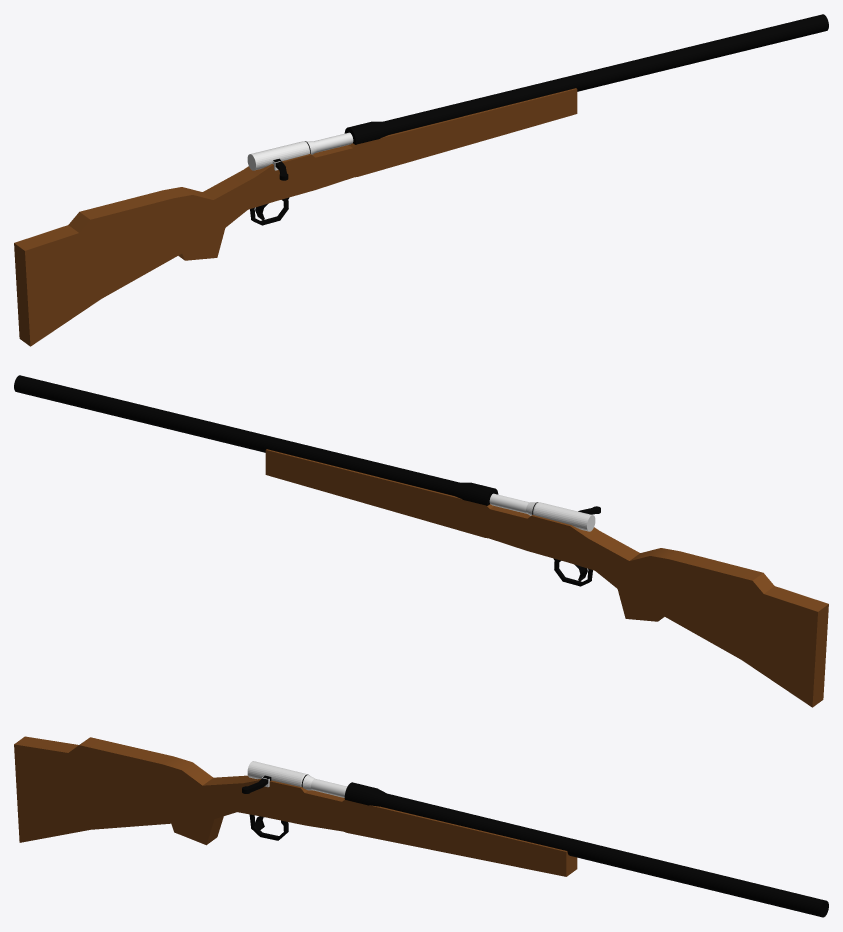
The model's file is remington700.fbx.
3 views of the same model, one above another, from view 1: azimuth 30°, elevation 25°; view 2: azimuth 150°, elevation 25°; view 3: azimuth 330°, elevation 25° (orthographic).
Visible parts, largest first — view 1: Plane, Bolt Boolean, Cylinder.002; view 2: Plane, Bolt Boolean, Cylinder.002; view 3: Plane, Bolt Boolean, Cylinder.002.
Boxes of the visible parts, box(x1,y1,x2,y2) form: Plane: box(14, 14, 828, 346); Bolt Boolean: box(247, 141, 316, 170); Cylinder.002: box(273, 132, 353, 180); Plane: box(14, 375, 828, 707); Bolt Boolean: box(526, 502, 595, 531); Cylinder.002: box(489, 493, 600, 514); Plane: box(14, 736, 828, 917); Bolt Boolean: box(247, 761, 314, 790); Cylinder.002: box(242, 774, 347, 797).
Bounding box in the file's own units: 482 × 77.26 × 27.59.
